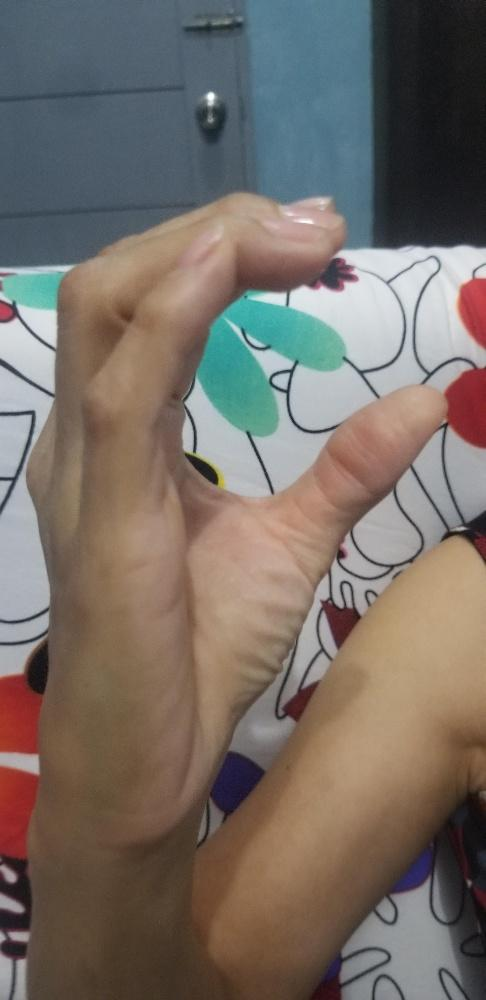c: (22, 184, 456, 845)
